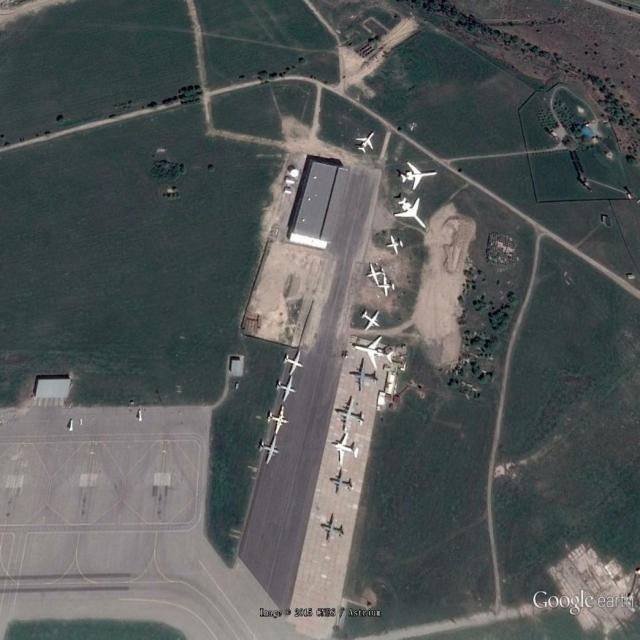aircraft: (353, 336, 396, 373), (393, 195, 430, 232), (334, 394, 367, 435), (398, 161, 440, 193), (349, 358, 379, 395), (331, 433, 361, 466), (320, 512, 347, 545), (266, 404, 292, 437), (257, 435, 282, 466), (330, 466, 355, 496), (275, 375, 297, 404), (283, 350, 304, 378), (384, 234, 406, 258), (355, 131, 376, 156), (366, 262, 386, 288), (377, 274, 397, 300), (360, 311, 383, 330)
